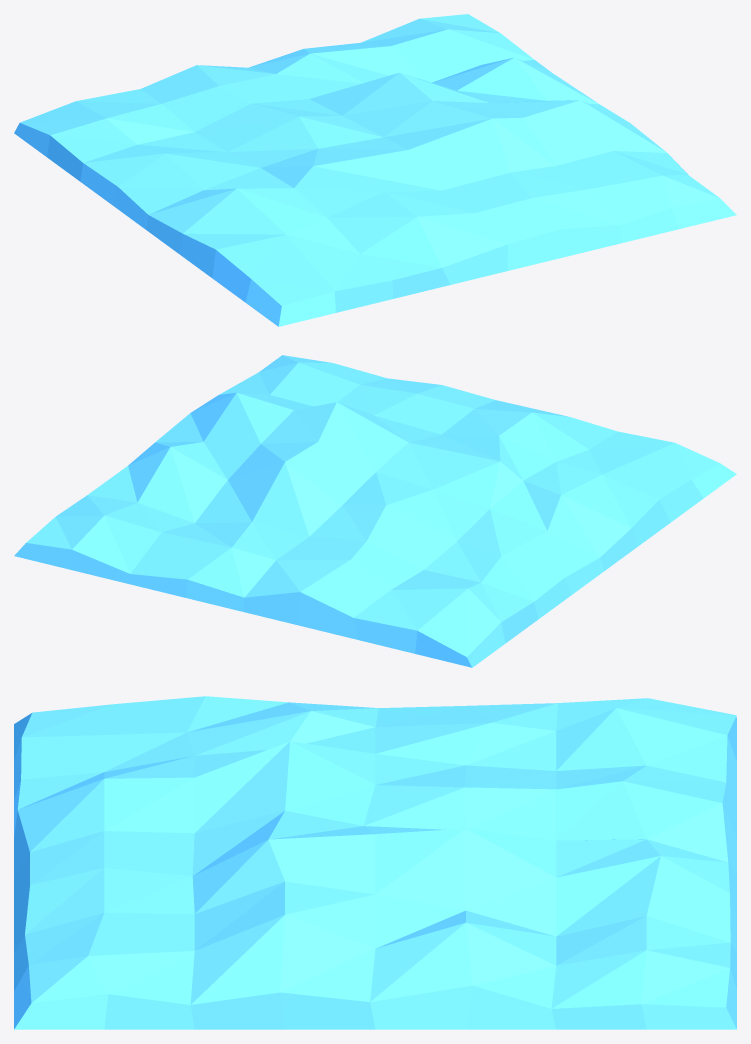
File: TileGlace.fbx
3 views of the same model, one above another, from view 1: azimuth 30°, elevation 25°; view 2: azimuth 150°, elevation 25°; view 3: azimuth 270°, elevation 25° (orthographic). The views are drawn at different scales.
Parts seen in each view (by area): view 1: Plan; view 2: Plan; view 3: Plan.
Boxes of the visible parts, box(x1,y1,x2,y2) form: Plan: box(14, 14, 736, 326); Plan: box(14, 355, 736, 667); Plan: box(14, 696, 736, 1029).
Size of the model in its own units: 50 by 50 by 6.81.
